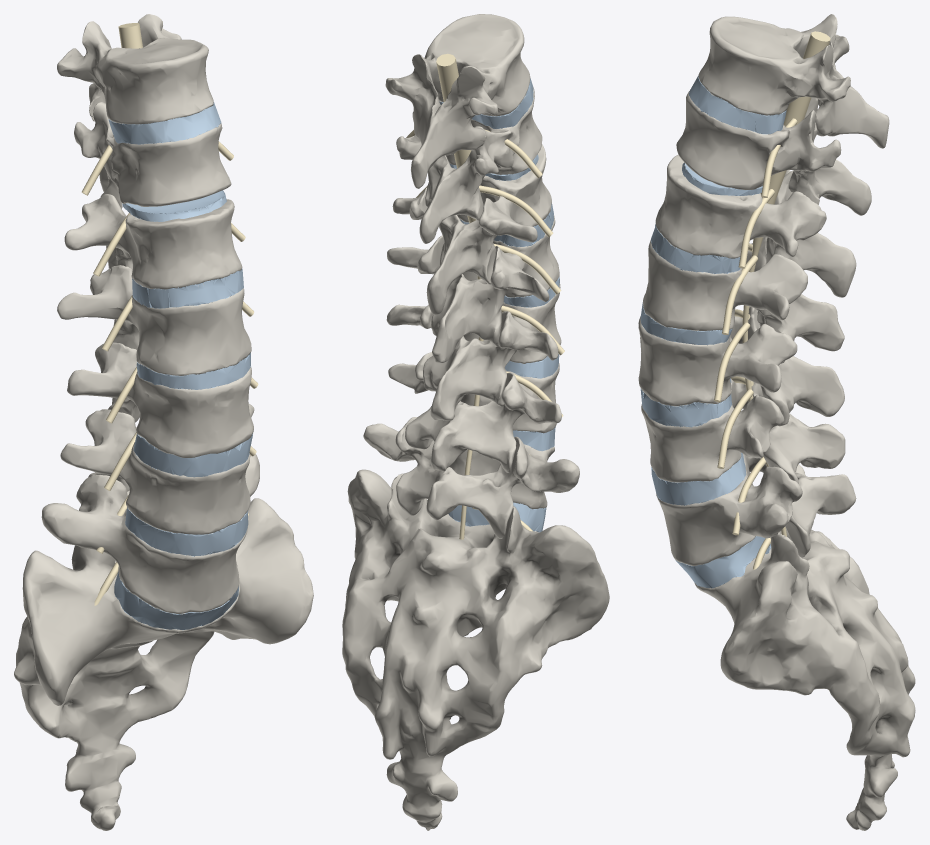
The model's file is lumbar.glb.
The picture shows the model from 3 angles, left to right: view 1: azimuth 30°, elevation 25°; view 2: azimuth 150°, elevation 25°; view 3: azimuth 270°, elevation 25°; orthographic projection. The views are drawn at different scales.
Parts seen in each view (by area): view 1: Sacrum_geo, L5_geo, T11_geo, L2_geo, L3_geo, L4_geo, L1_geo, T12_geo, Disc_L4_L5_geo, Disc_L3_L4_geo, Disc_T11_T12_geo, Disc_L1_L2_geo (+4 smaller); view 2: Sacrum_geo, T11_geo, L5_geo, L4_geo, L3_geo, L2_geo, L1_geo, T12_geo, Cord_geo, Disc_L5_S1_geo, Disc_T11_T12_geo, Disc_L3_L4_geo (+5 smaller); view 3: Sacrum_geo, T11_geo, L1_geo, L3_geo, L2_geo, L5_geo, T12_geo, L4_geo, Disc_L4_L5_geo, Disc_T11_T12_geo, Disc_L5_S1_geo, Disc_L3_L4_geo (+8 smaller).
Part boxes in pixels (box(x1,y1,x2,y2)): Sacrum_geo: box(14, 498, 313, 830); L5_geo: box(41, 454, 259, 613); T11_geo: box(57, 14, 213, 124); L2_geo: box(57, 265, 251, 375); L3_geo: box(67, 342, 253, 457); L4_geo: box(60, 404, 254, 534); L1_geo: box(64, 194, 242, 289); T12_geo: box(74, 102, 231, 208); Disc_L4_L5_geo: box(125, 507, 248, 556); Disc_L3_L4_geo: box(133, 433, 252, 477); Disc_T11_T12_geo: box(108, 102, 221, 144); Disc_L1_L2_geo: box(132, 268, 243, 308); Sacrum_geo: box(342, 469, 609, 830); T11_geo: box(385, 14, 530, 188); L5_geo: box(363, 417, 579, 538); L4_geo: box(388, 352, 561, 472); L3_geo: box(386, 283, 561, 420); L2_geo: box(387, 212, 559, 362); L1_geo: box(392, 144, 551, 314); T12_geo: box(396, 87, 542, 243); Cord_geo: box(436, 53, 483, 539); Disc_L5_S1_geo: box(448, 502, 546, 532); Disc_T11_T12_geo: box(439, 78, 533, 128); Disc_L3_L4_geo: box(505, 354, 559, 378); Sacrum_geo: box(694, 464, 915, 830); T11_geo: box(698, 14, 889, 148); L1_geo: box(655, 155, 856, 297); L3_geo: box(638, 306, 844, 426); L2_geo: box(643, 237, 844, 363); L5_geo: box(656, 454, 856, 566); T12_geo: box(676, 90, 871, 215); L4_geo: box(641, 379, 845, 483); Disc_L4_L5_geo: box(651, 452, 746, 505); Disc_T11_T12_geo: box(689, 75, 786, 134); Disc_L5_S1_geo: box(675, 536, 771, 588); Disc_L3_L4_geo: box(640, 378, 731, 427).
Size of the model in its own units: 0.1223 by 0.355 by 0.1111.
